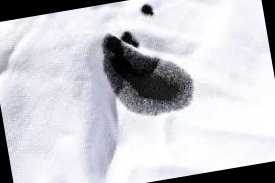ink: (99, 24, 196, 124), (139, 2, 156, 18)
